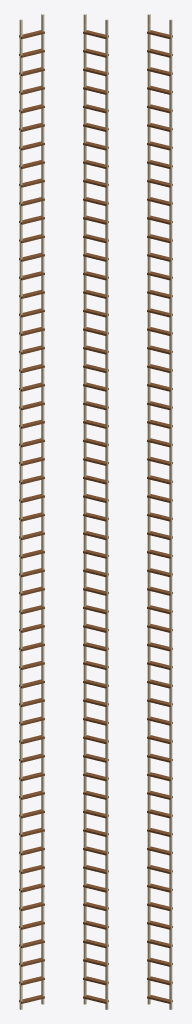
File: BalloonLadder.fbx
The picture shows the model from 3 angles, left to right: view 1: azimuth 30°, elevation 25°; view 2: azimuth 150°, elevation 25°; view 3: azimuth 330°, elevation 25°; orthographic projection.
Visible parts, largest first — view 1: BalloonLadder; view 2: BalloonLadder; view 3: BalloonLadder.
Part boxes in pixels (x1,y1,x2,y2): BalloonLadder: (19,14,44,1009); BalloonLadder: (83,14,108,1009); BalloonLadder: (147,14,172,1009).
Bounding box in the file's own units: 2 × 80 × 0.4.
